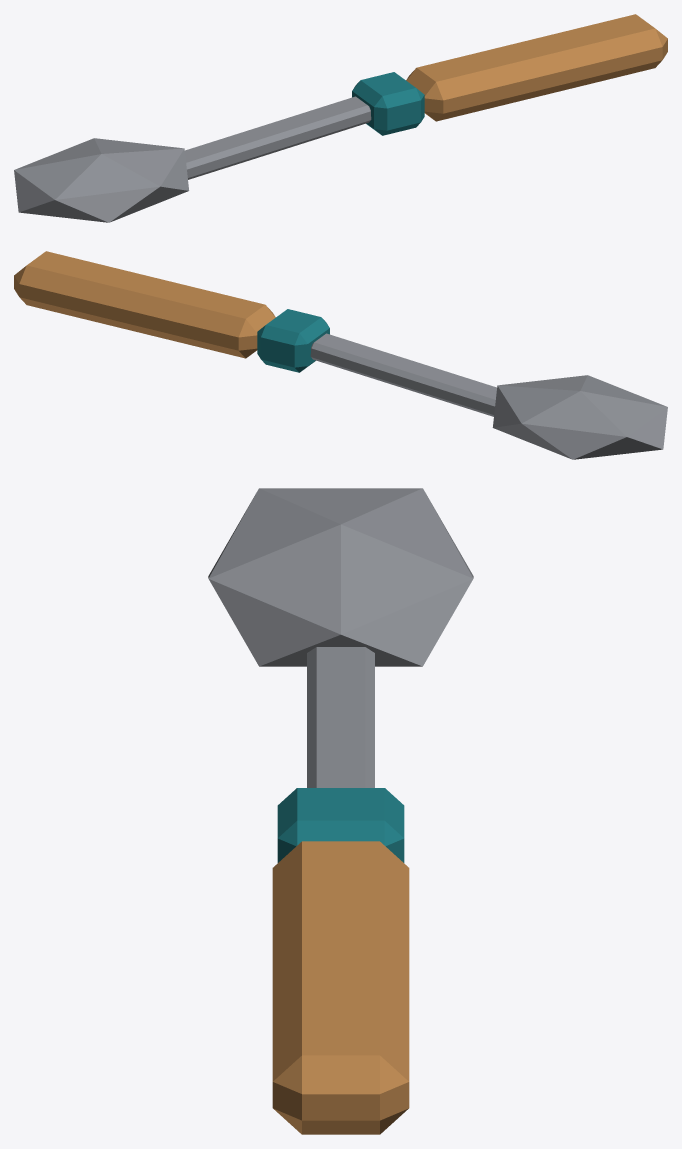
Rendered from spoon.glb.
The picture shows the model from 3 angles, top to bottom: view 1: azimuth 30°, elevation 25°; view 2: azimuth 150°, elevation 25°; view 3: azimuth 270°, elevation 25°; orthographic projection. The views are drawn at different scales.
Parts seen in each view (by area): view 1: spoon; view 2: spoon; view 3: spoon.
Boxes of the visible parts, x1=… form: spoon: x1=14, y1=14, x2=667, y2=222; spoon: x1=14, y1=251, x2=667, y2=459; spoon: x1=208, y1=488, x2=473, y2=1134.
Size of the model in its own units: 0.1517 by 0.012 by 0.0272.
